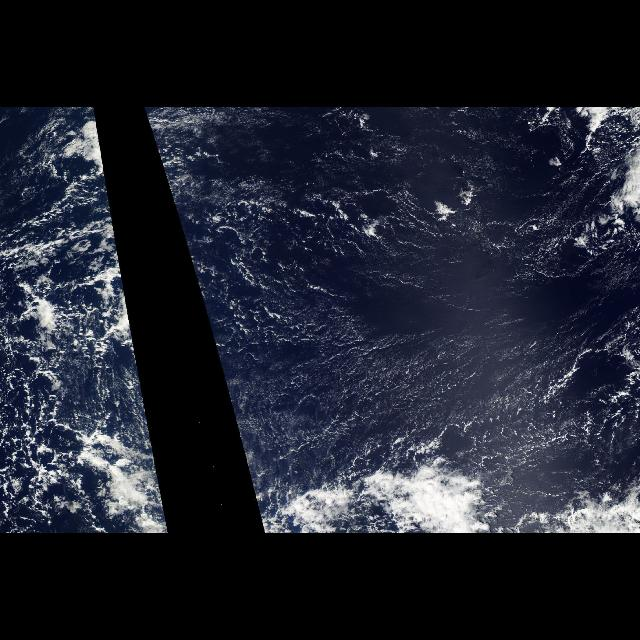Gravel: (188, 171, 620, 339), (0, 196, 160, 530)
Sugar: (166, 117, 620, 459)
